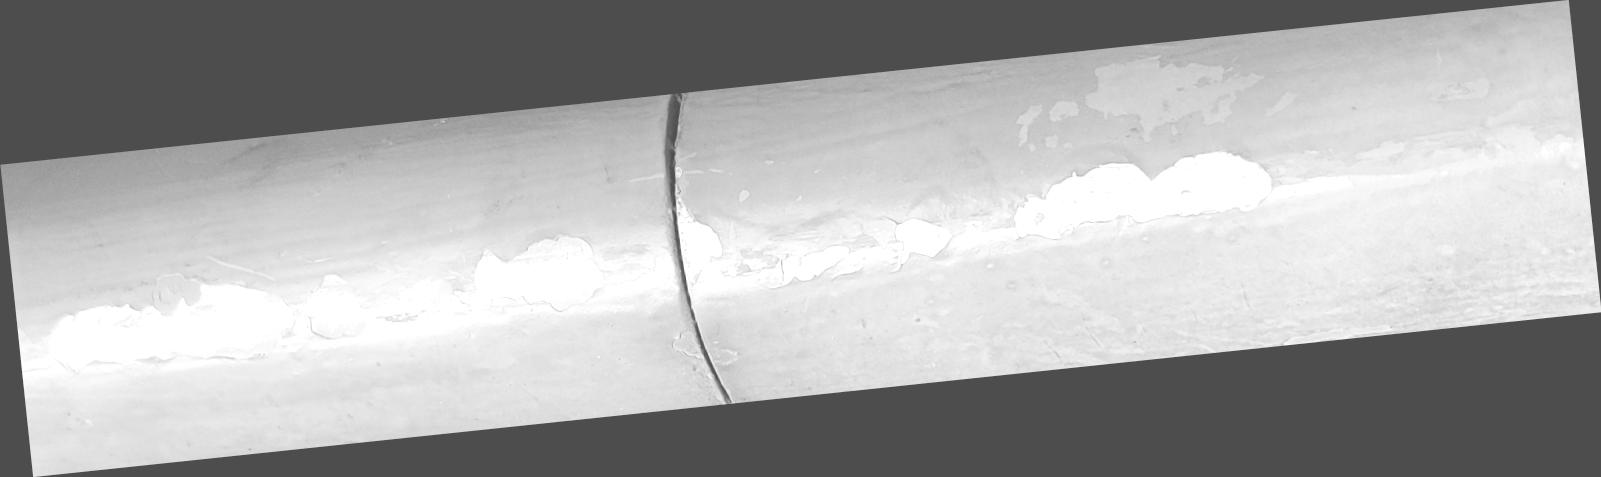paint-off: (1, 0, 1601, 477)
